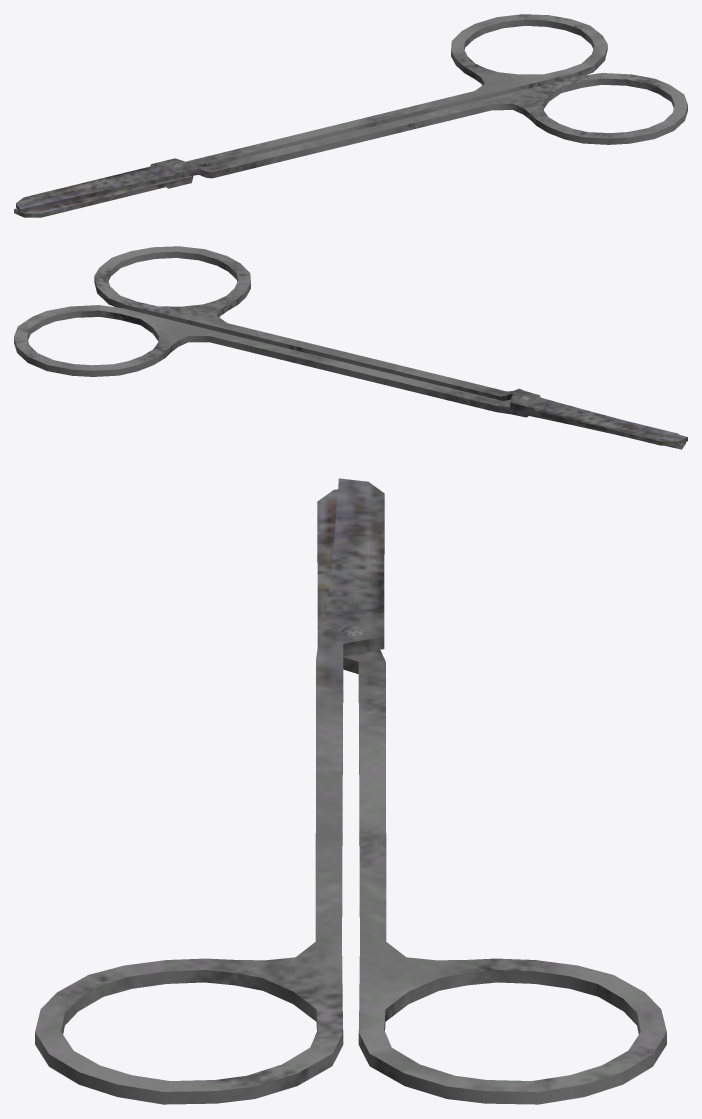
The model's file is surgery_dissectingscissor.dae.
3 views of the same model, one above another, from view 1: azimuth 30°, elevation 25°; view 2: azimuth 150°, elevation 25°; view 3: azimuth 270°, elevation 25° (orthographic). The views are drawn at different scales.
Parts seen in each view (by area): view 1: polySurface16; view 2: polySurface16; view 3: polySurface16.
Part boxes in pixels (left/top/right/bottom): polySurface16: left=14, top=14, right=687, bottom=217; polySurface16: left=14, top=246, right=687, bottom=449; polySurface16: left=35, top=478, right=666, bottom=1104.
Bounding box in the file's own units: 24.89 × 0.6558 × 10.98.
